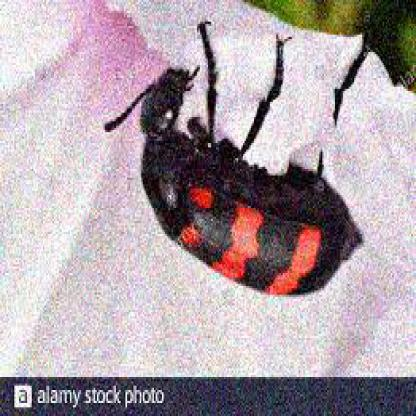blister beetle: (105, 25, 367, 299)
